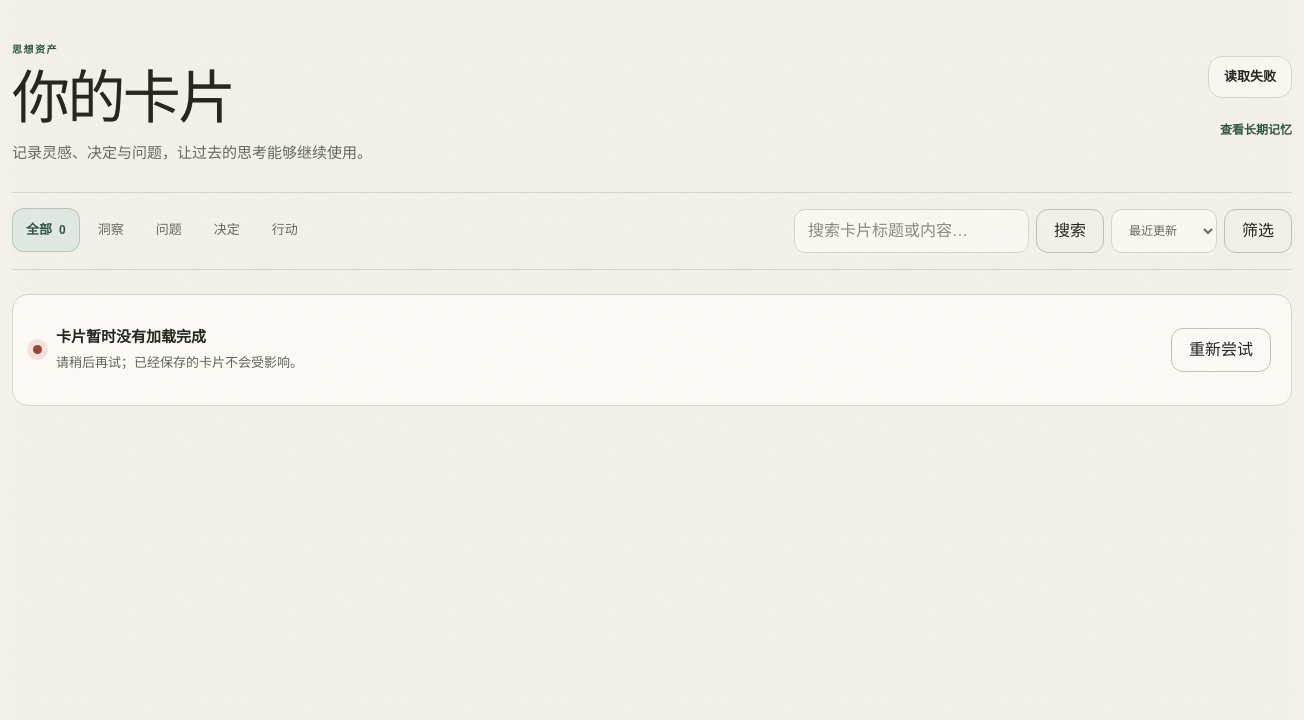
DailyReflectionCardLibrary › keeps the error state distinct from an empty Library and retries safely
Expected: the message shows "卡片暂时没有加载完成", [56,328,206,345]
Expected: the text "读取失败" is shown, [1208,56,1292,98]
Click the button "重新尝试": (1221,350) [1171,328,1271,372]
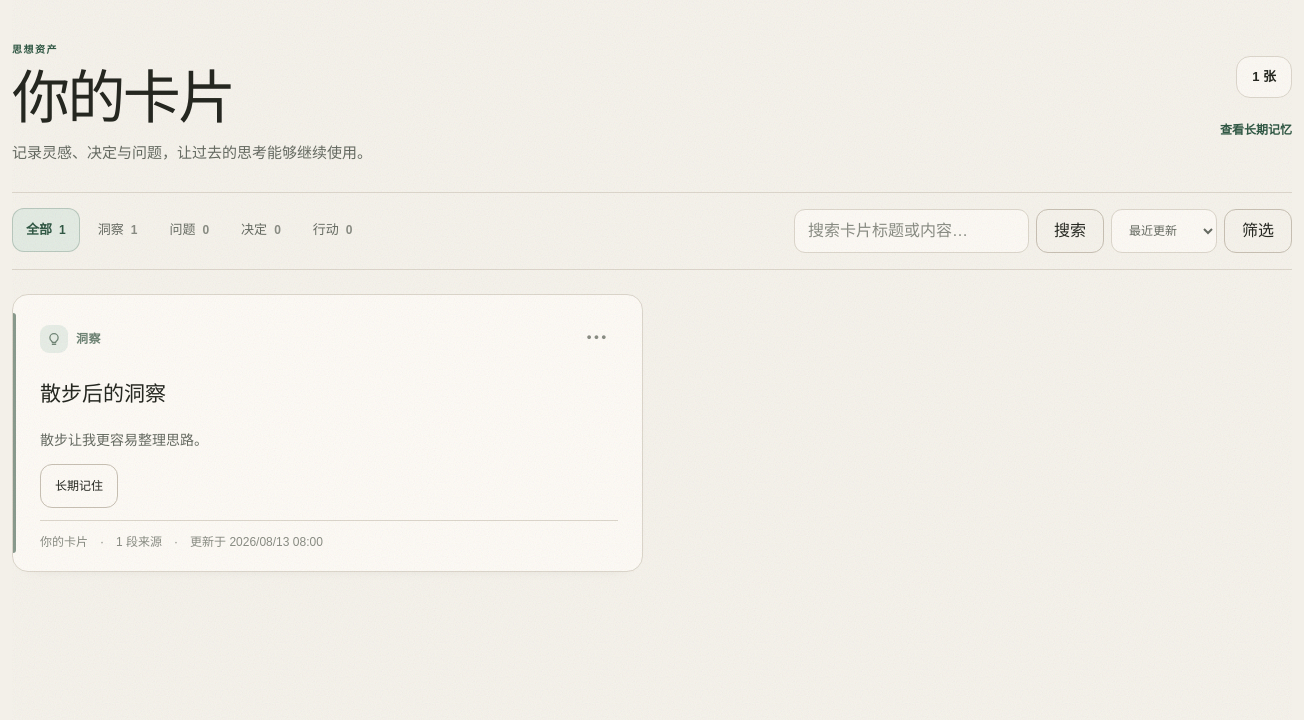
Expected: the button with aria-label "打开卡片：散步后的洞察" is shown, [40,373,618,417]
Expected: the message "卡片暂时没有加载完成 请稍后再试；已经保存的卡片不会受影响。 重新尝试" is gone
